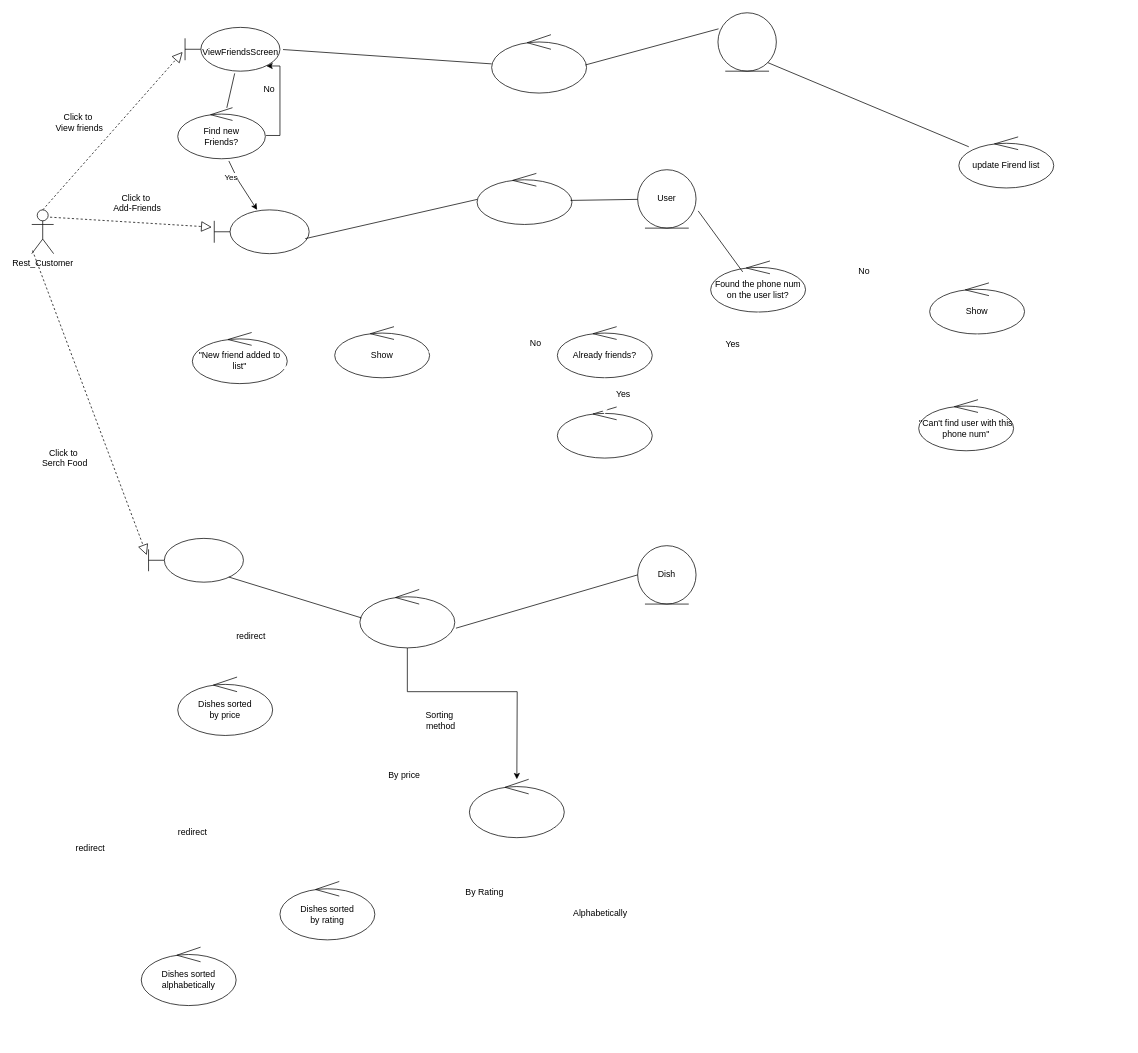
Some shapes in this 1138 by 1053 pixel diagram are drawn without their labels. Each missing label, with the centre of its shape:
"Already friends with this user": point 604,432
AddFriendsPopup: point 261,231
FoodSearchScreen: point 195,560
FriendNumController: point 524,198
FriendsList: point 746,41
Get Friends: point 539,63
Show Foods: point 407,618
SortHelper: point 516,808
